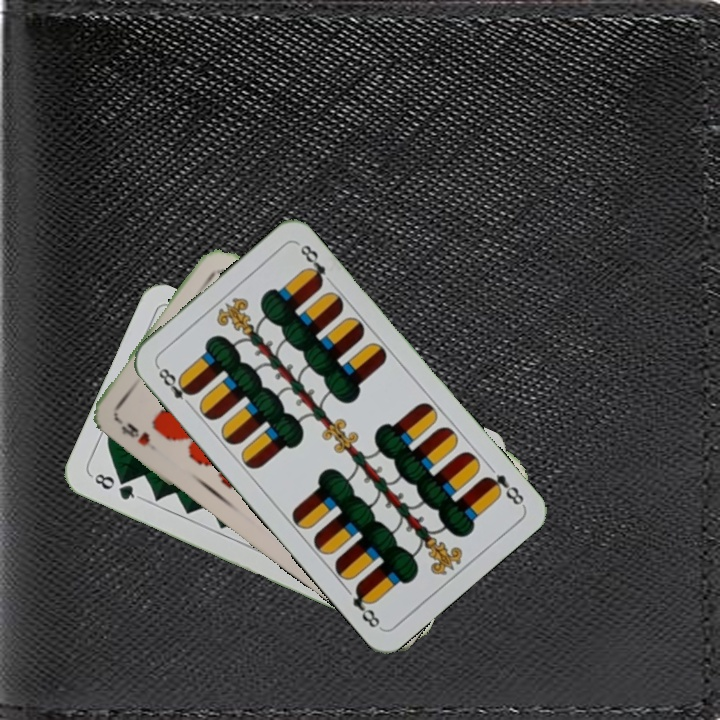E8: (152, 361, 197, 411), (479, 469, 527, 508)
G8: (87, 469, 143, 503)
H9: (112, 414, 159, 454)
